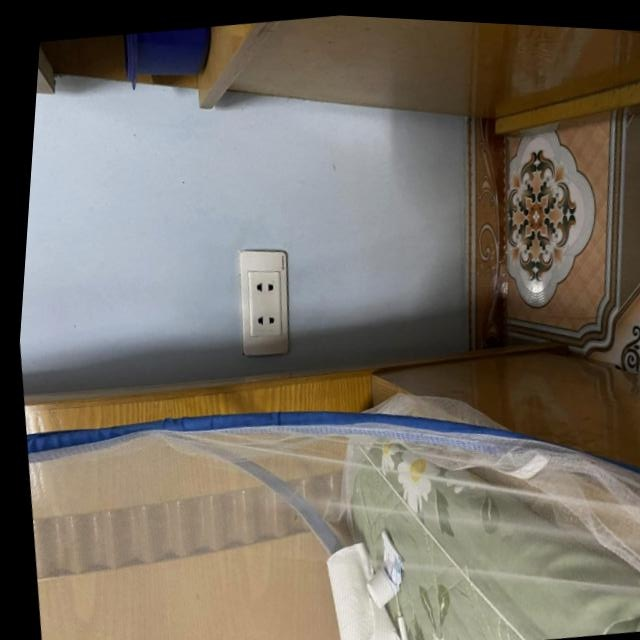outlet: (228, 244, 302, 361)
